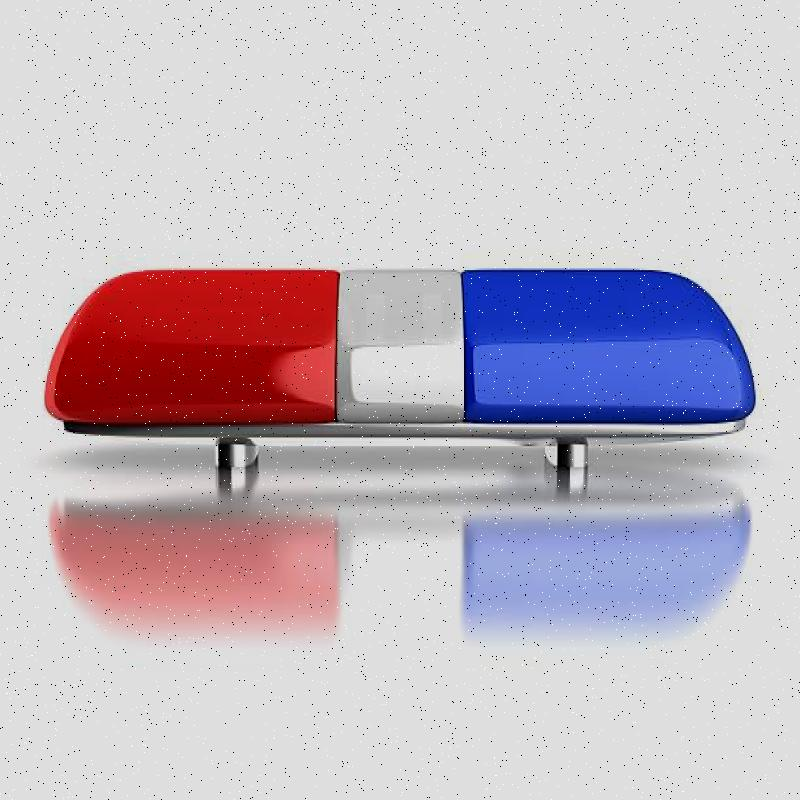AmbulanceSiren: (32, 234, 761, 510)
